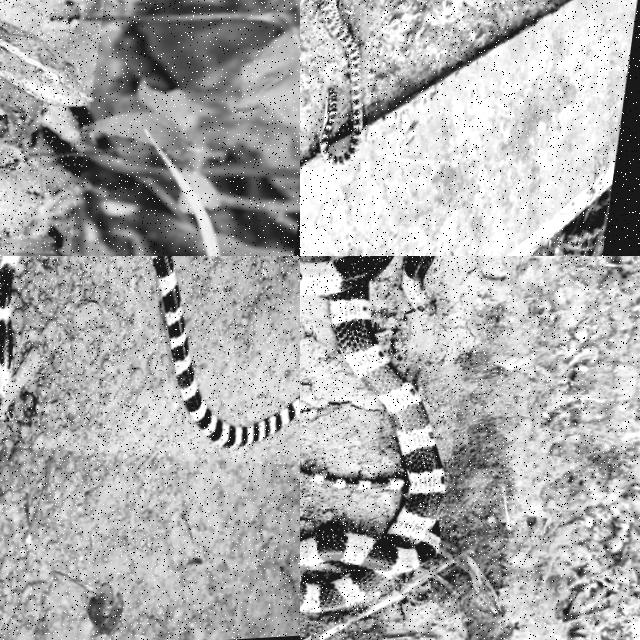Bungarus candidus: (300, 256, 444, 612), (150, 256, 299, 447)
Calloselasma rhodostoma: (0, 0, 90, 244)
Chrysopelea ornata: (319, 0, 362, 166)
